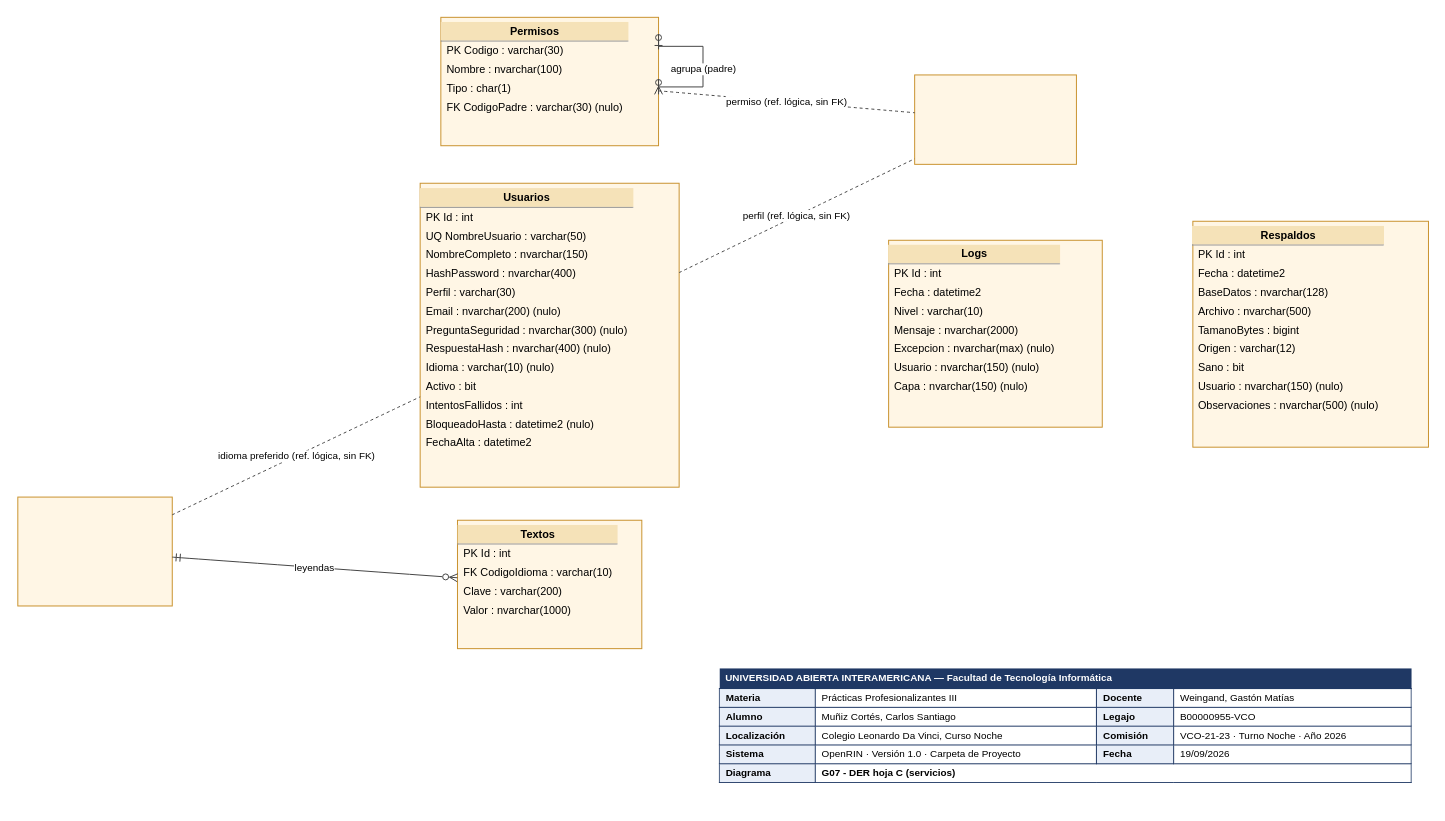
This 1445x821 diagram has some shape labels left out. Here are the shapes that lost their labels. From the top down, the box of each, then its label:
(914, 74, 1076, 164): PerfilesPermisos PK Perfil : varchar(30) PK Permiso : varchar(100)
(17, 496, 172, 606): Idiomas PK Codigo : varchar(10) Nombre : nvarchar(60) Activo : bit
